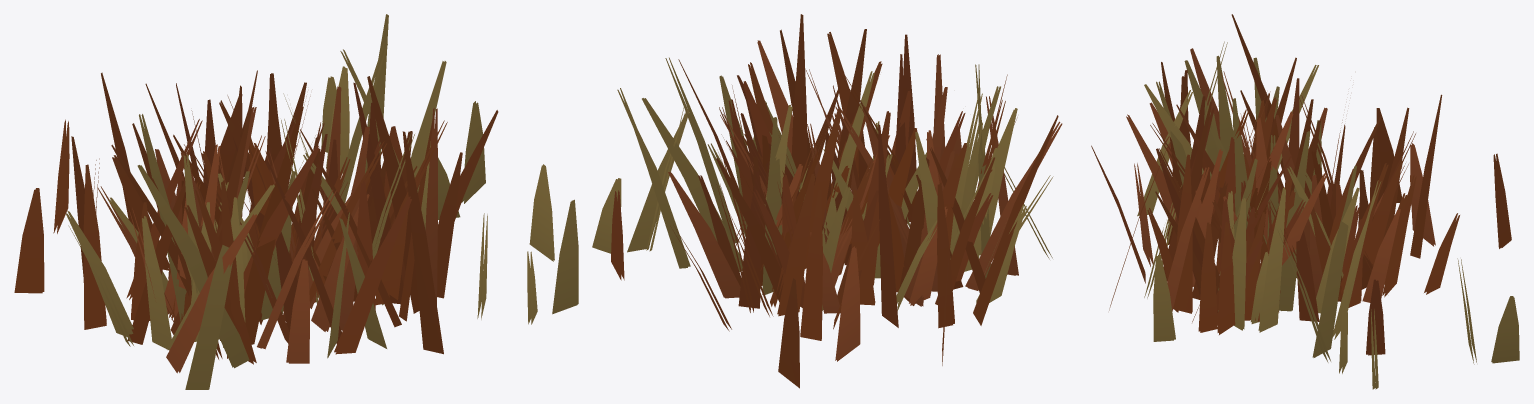
File: VerGrass01.glb
The picture shows the model from 3 angles, left to right: view 1: azimuth 30°, elevation 25°; view 2: azimuth 150°, elevation 25°; view 3: azimuth 270°, elevation 25°; orthographic projection. The views are drawn at different scales.
Parts seen in each view (by area): view 1: VerGrass01_blades; view 2: VerGrass01_blades; view 3: VerGrass01_blades.
Boxes of the visible parts, <box> form: VerGrass01_blades: <box>14,14,498,389</box>; VerGrass01_blades: <box>527,14,1062,388</box>; VerGrass01_blades: <box>1091,14,1519,389</box>.
Bounding box in the file's own units: 2.05 × 0.8454 × 1.78.
